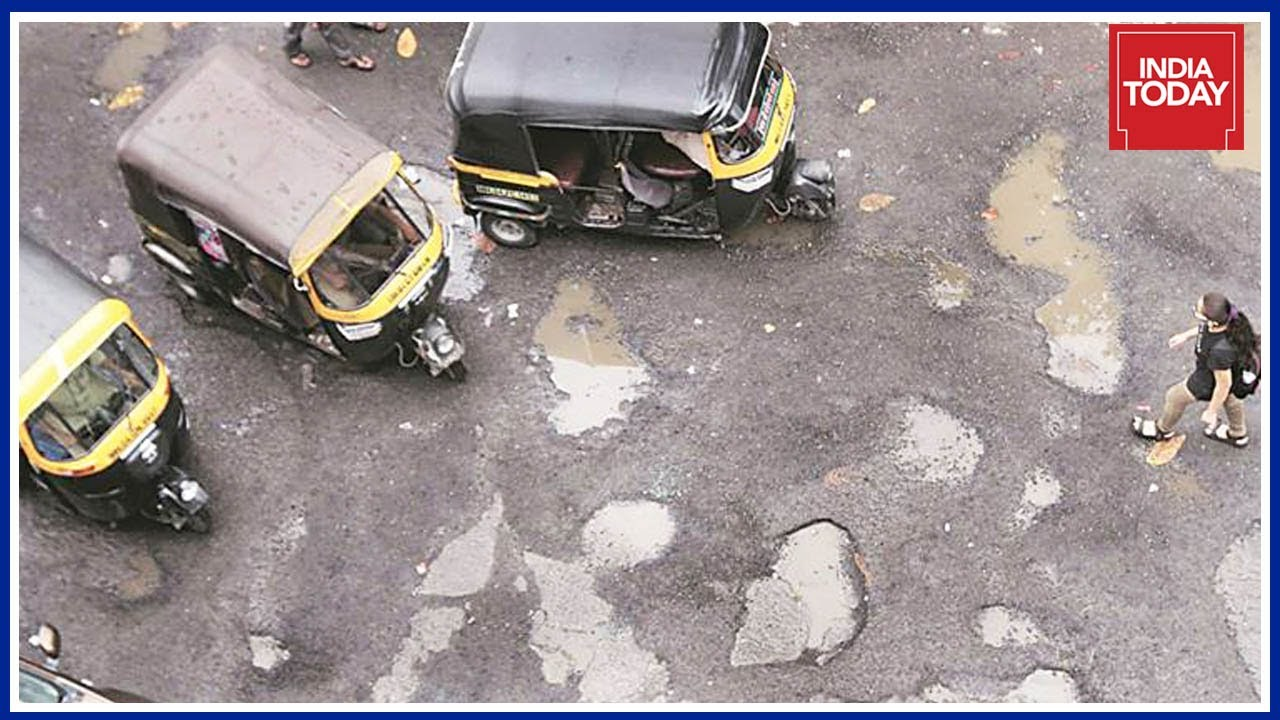pothole: (956, 108, 1158, 402), (716, 500, 887, 678), (520, 270, 685, 453), (376, 502, 549, 611), (1176, 497, 1279, 637), (967, 601, 1075, 712)
